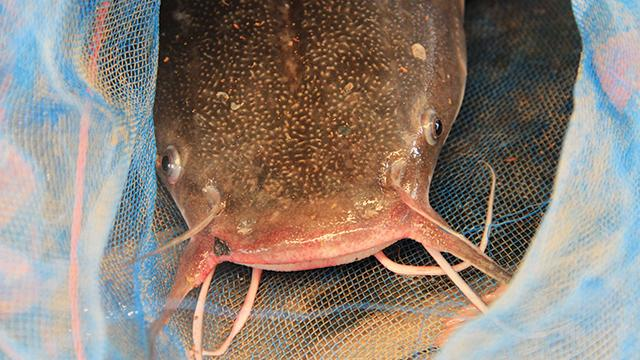Mulut: (184, 200, 458, 306)
